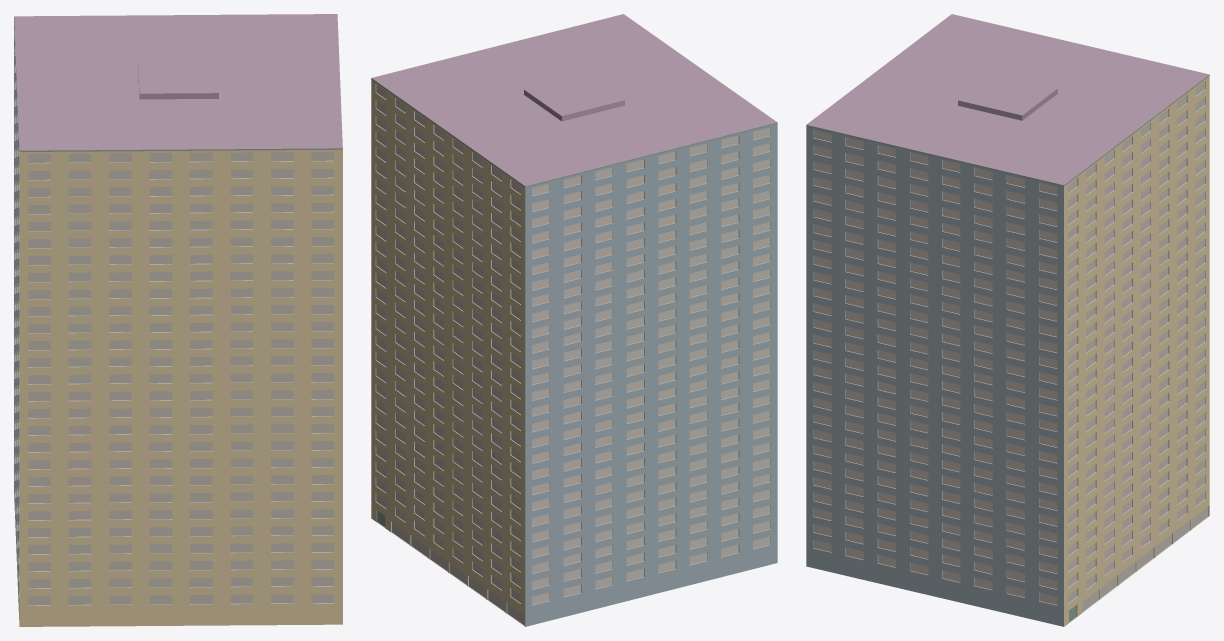
Rendered from doitt-131170__lod_0.glb.
3 views of the same model, side by side, from view 1: azimuth 30°, elevation 25°; view 2: azimuth 150°, elevation 25°; view 3: azimuth 270°, elevation 25° (orthographic). The views are drawn at different scales.
Bounding box in the file's own units: 82.55 × 100 × 82.16.
